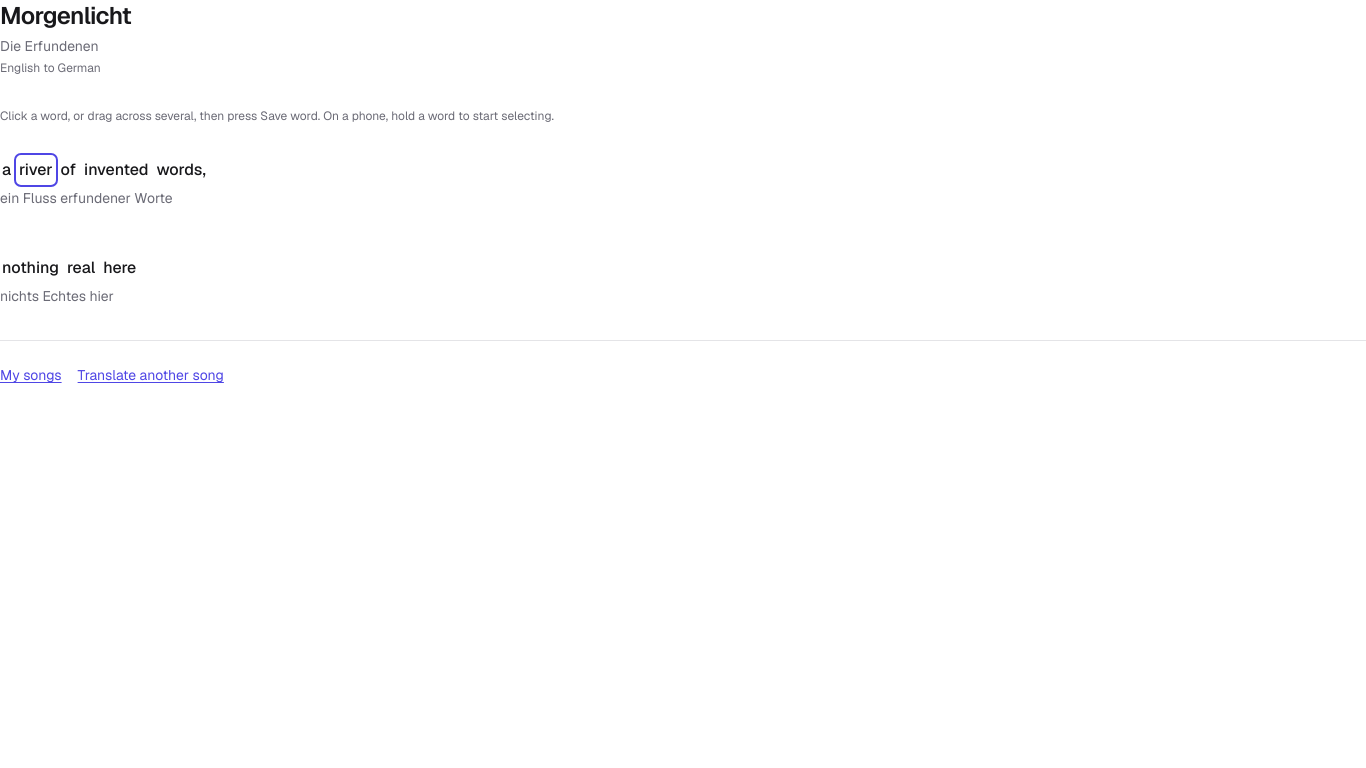
it: LyricsResultView › opens the save dialog from the Save word button
Press Enter
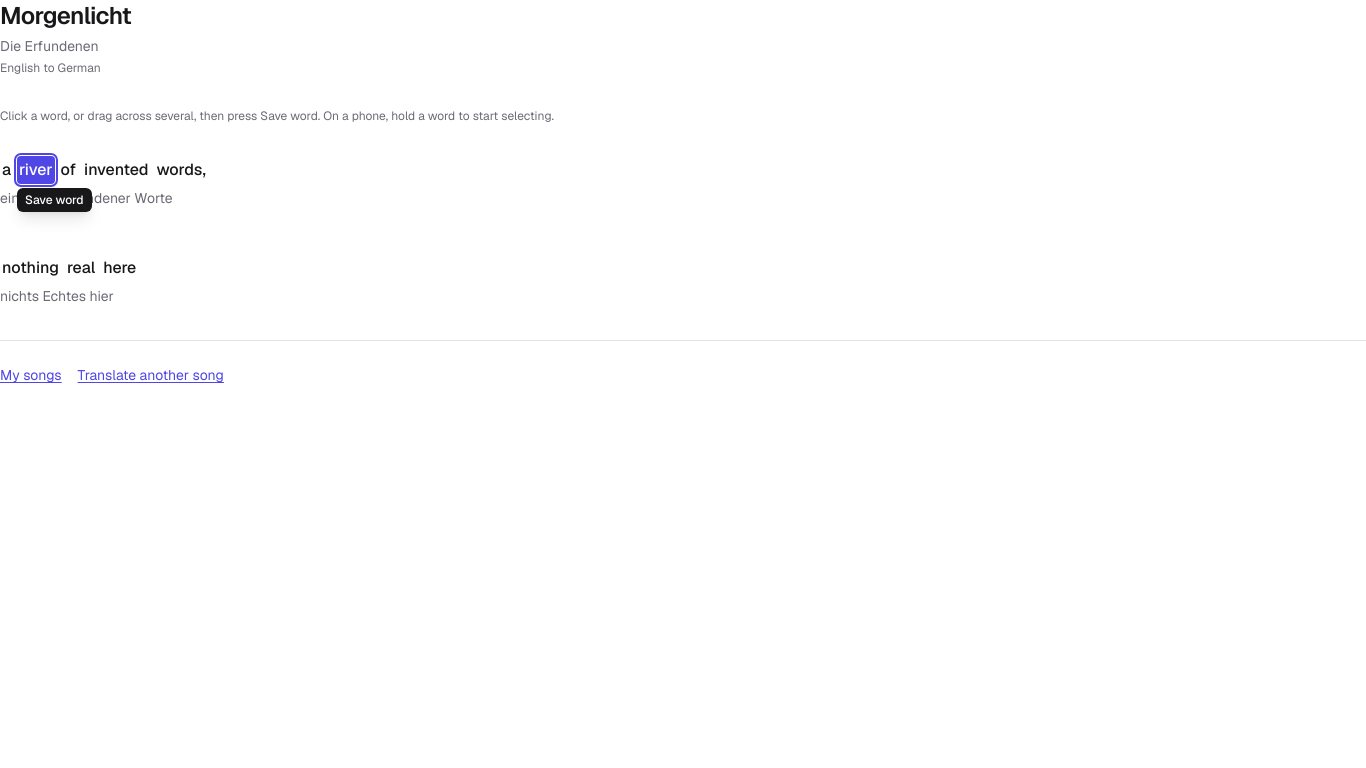
Click the button "Save word" at [54, 200], box [17,188,92,212]
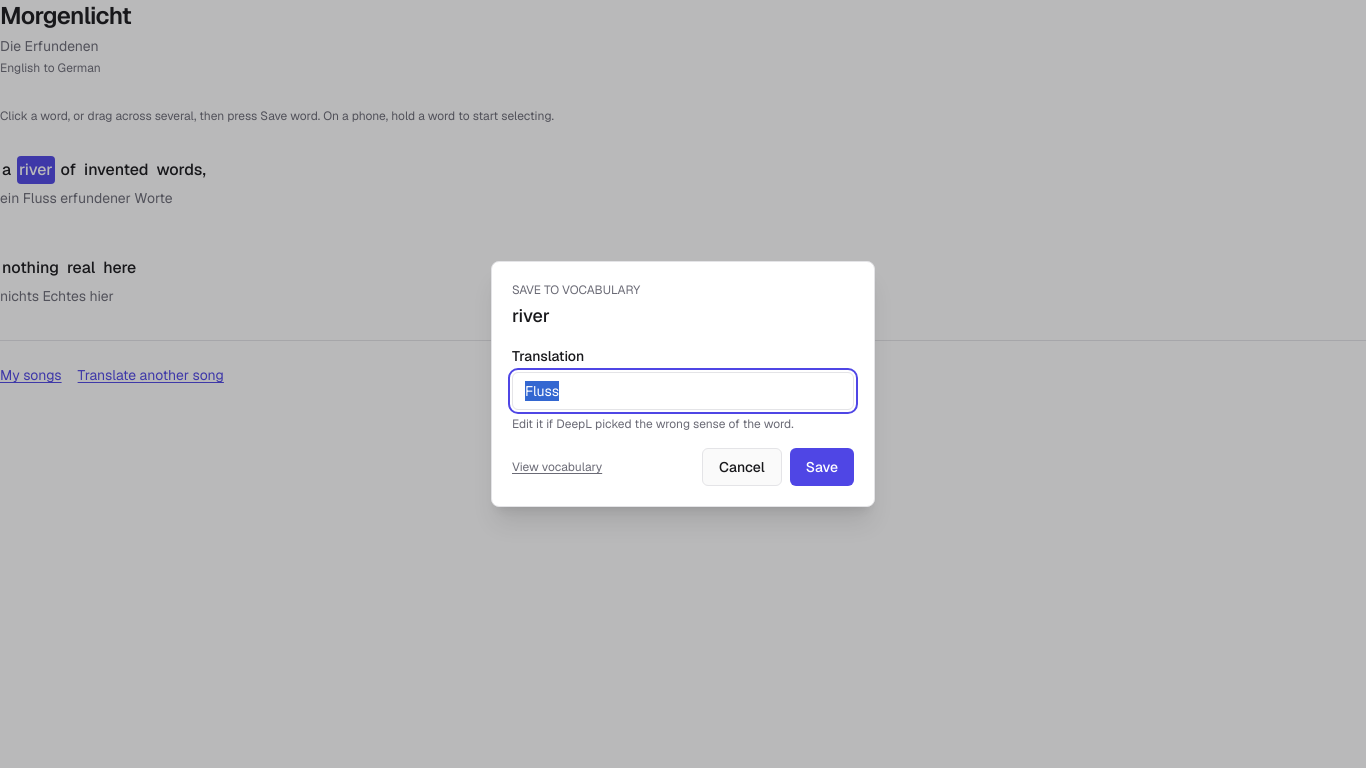
Expected: the dialog is shown, [491,261,875,507]
Expected: the heading "Save to vocabulary" is shown, [512,282,640,298]
